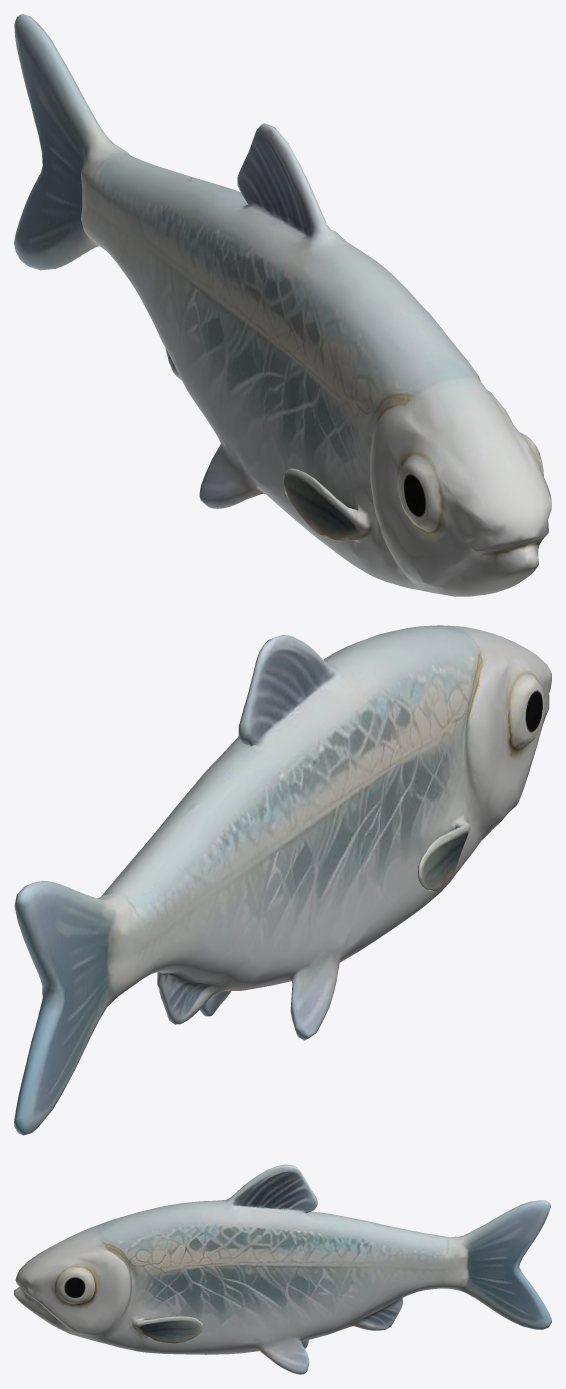
Rendered from bingeo.glb.
3 renders of one model, top to bottom at view 1: azimuth 30°, elevation 25°; view 2: azimuth 150°, elevation 25°; view 3: azimuth 270°, elevation 25°, orthographic. The views are drawn at different scales.
Parts seen in each view (by area): view 1: tripo_node_0196b7ae-d6b6-4b79-a07f-3b288e8474c9; view 2: tripo_node_0196b7ae-d6b6-4b79-a07f-3b288e8474c9; view 3: tripo_node_0196b7ae-d6b6-4b79-a07f-3b288e8474c9.
Part boxes in pixels (x1,y1,x2,y2): tripo_node_0196b7ae-d6b6-4b79-a07f-3b288e8474c9: [14, 14, 551, 596]; tripo_node_0196b7ae-d6b6-4b79-a07f-3b288e8474c9: [14, 625, 551, 1135]; tripo_node_0196b7ae-d6b6-4b79-a07f-3b288e8474c9: [14, 1164, 551, 1374].
Size of the model in its own units: 0.1552 by 0.405 by 1.
Materials: 1 (1 with a texture image).
